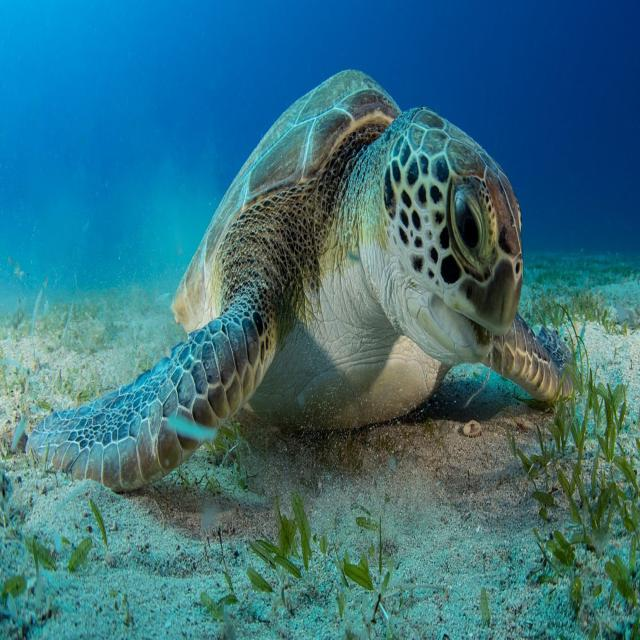turtle: (145, 122, 538, 482)
